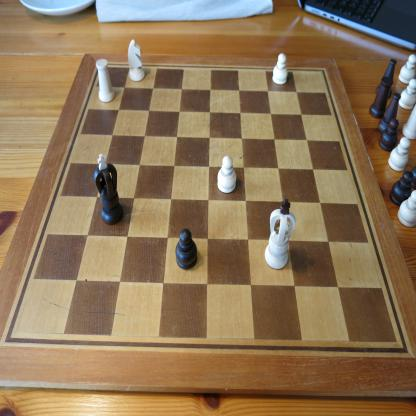black-bishop: (377, 92, 401, 134), (376, 58, 397, 98)
black-king: (92, 154, 124, 226)
black-pawn: (388, 170, 414, 208), (175, 228, 198, 270), (378, 117, 399, 154)
black-rook: (368, 76, 393, 119)
white-king: (264, 198, 296, 271)
white-knight: (127, 39, 146, 82)
white-pawn: (387, 137, 411, 172), (217, 154, 237, 194), (396, 190, 416, 228), (398, 78, 415, 111), (398, 53, 415, 85), (272, 52, 288, 85)
white-rook: (95, 58, 116, 103)
